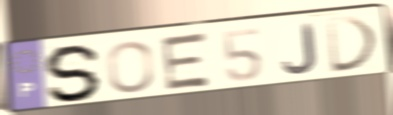5: (220, 25, 264, 83)
D: (324, 14, 383, 76)
E: (159, 30, 214, 93)
J: (280, 21, 319, 76)
O: (105, 39, 157, 95)
S: (43, 42, 106, 104)
